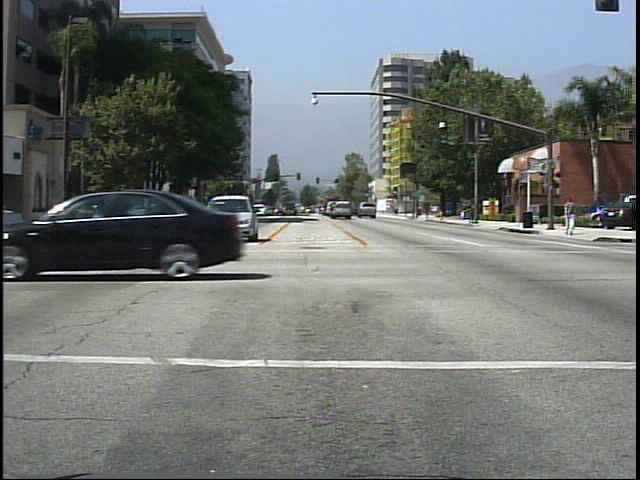person: (562, 195, 579, 239)
